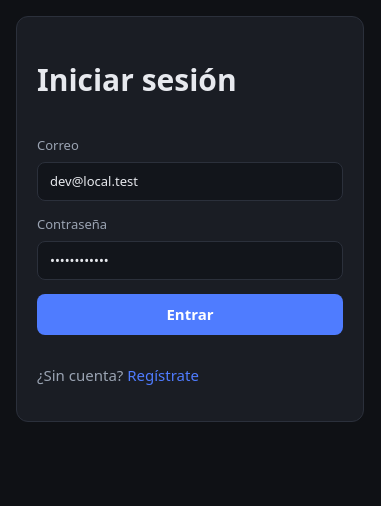
Login page › shows a backend error message on invalid credentials
Click the button "Entrar".
click(190, 314)  # box [37, 294, 343, 335]
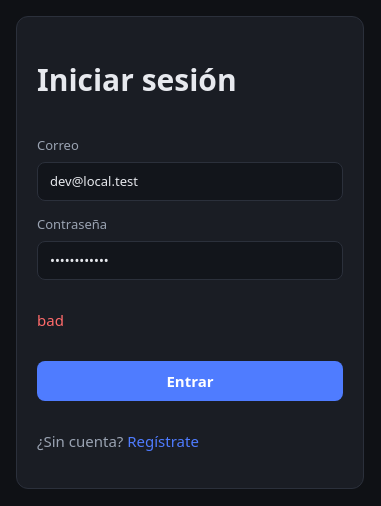
Result: the message reads "bad" at [37, 310, 64, 330]
